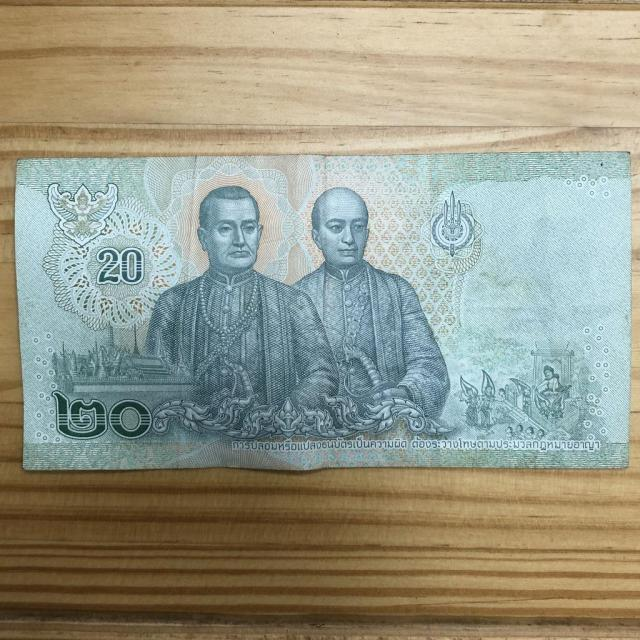THAI20: (15, 152, 631, 470)
